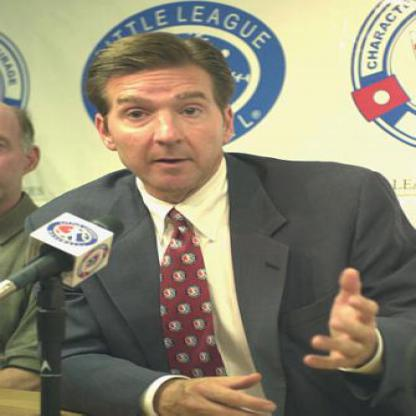face: (107, 41, 226, 192)
